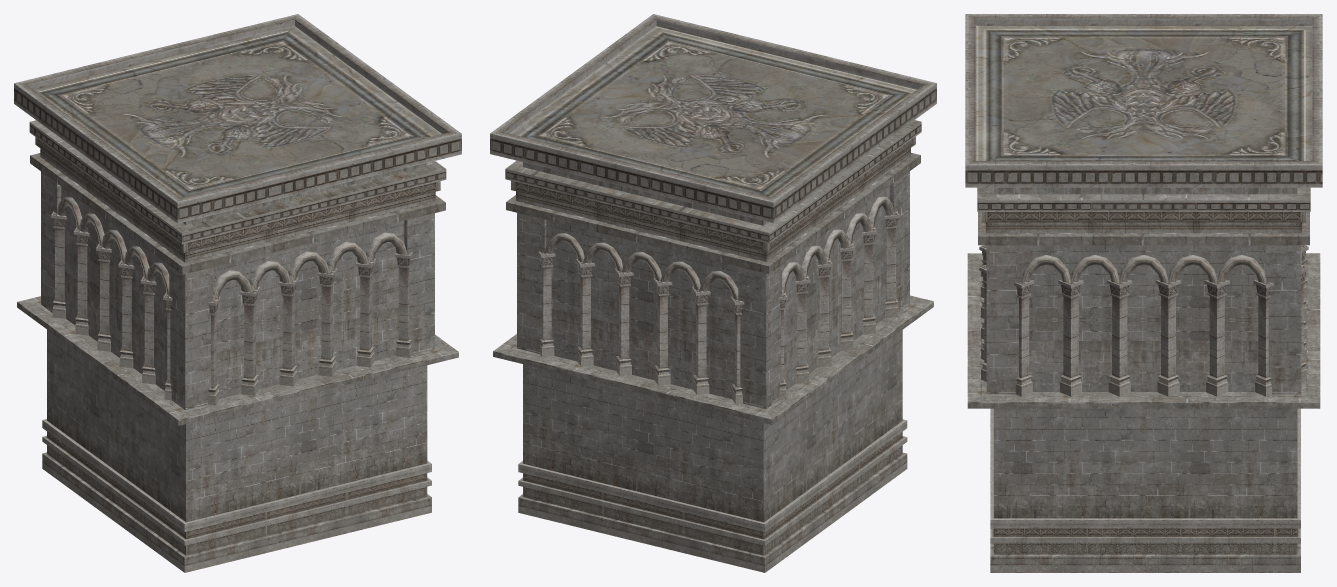
Rendered from bg_lut_lucastle_church03b_sm_kss.FBX.
The picture shows the model from 3 angles, left to right: view 1: azimuth 30°, elevation 25°; view 2: azimuth 150°, elevation 25°; view 3: azimuth 270°, elevation 25°; orthographic projection. The views are drawn at different scales.
Parts seen in each view (by area): view 1: bg_lut_lucastle_church03b_sm_kss; view 2: bg_lut_lucastle_church03b_sm_kss; view 3: bg_lut_lucastle_church03b_sm_kss.
Part boxes in pixels (box(x1,y1,x2,y2)): bg_lut_lucastle_church03b_sm_kss: box(14, 14, 461, 572); bg_lut_lucastle_church03b_sm_kss: box(490, 14, 936, 572); bg_lut_lucastle_church03b_sm_kss: box(965, 14, 1322, 572).
Bounding box in the file's own units: 423 × 544 × 422.
